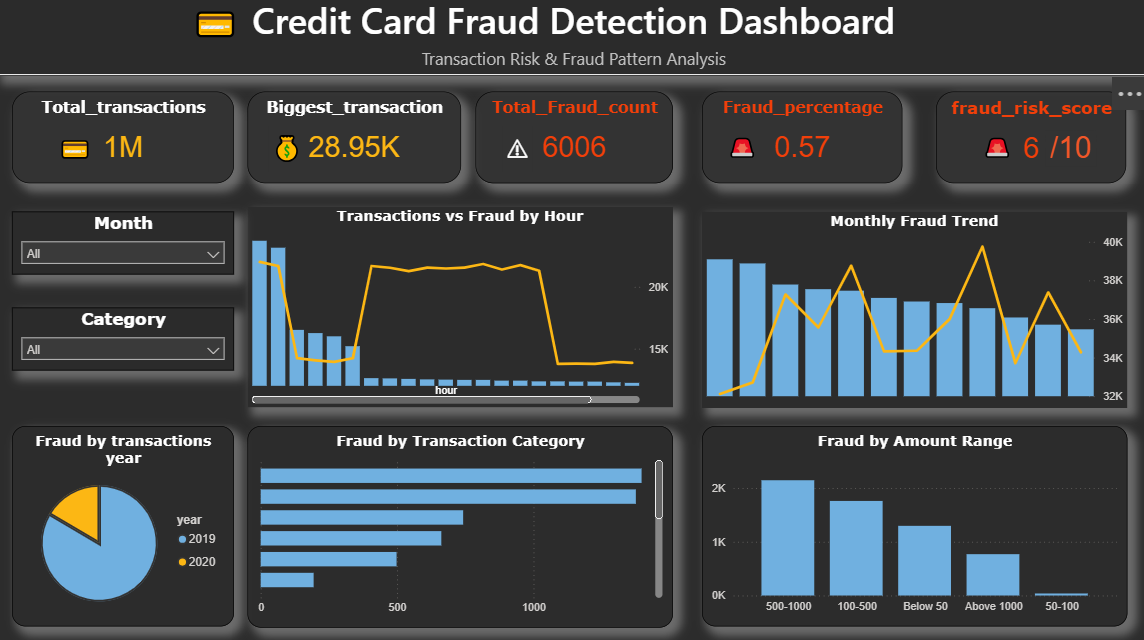

The dashboard page shown, as its layout file describes it:
{"tool":"powerbi","page":{"name":"Page 1","canvas":[1280,720],"ordinal":0},"visuals":[{"type":"card","title":"Total_Fraud_count","fields":{"Values":["Sum(#fr_percent.fraud_count)"]},"box":[531.3,108.2,219.5,101.8],"z":0},{"type":"card","title":"Fraud_percentage","fields":{"Values":["Sum(#fr_percent.fraud_percentage)"]},"box":[782.6,108.2,222.7,101.8],"z":1000},{"type":"card","title":"Total_transactions","fields":{"Values":["Sum(#fr_percent.total)"]},"box":[15.9,108.2,246.5,101.8],"z":2000},{"type":"lineStackedColumnComboChart","title":"Transactions vs Fraud by Hour","fields":{"Category":["#fr_by_time_of_day.hour"],"Y":["Sum(#fr_by_time_of_day.fraud_transactions)"],"Y2":["Sum(#fr_by_time_of_day.total_transactions)"]},"box":[278.4,237,472.4,222.7],"z":3000},{"type":"card","title":"Biggest_transaction","fields":{"Values":["Sum(#fr_big_trans.MAX(amt))"]},"box":[278.4,108.2,237,101.8],"z":4000},{"type":"pieChart","title":"Fraud by transactions year","fields":{"Category":["#fr_by_year.year"],"Y":["Sum(#fr_by_year.fraud_transactions)"]},"box":[15.9,480.4,246.5,222.7],"z":5000},{"type":"lineStackedColumnComboChart","title":"Monthly Fraud Trend","fields":{"Category":["#fr_by_month.month"],"Y":["Sum(#fr_by_month.fraud_transactions)"],"Y2":["Sum(#fr_by_month.total_transactions)"]},"box":[782.6,241.8,472.4,217.9],"z":6000},{"type":"card","title":"fraud_risk_score","fields":{"Values":["Sum(#fr_risk.fraud_risk_score)"]},"box":[1043.4,108.2,211.6,101.8],"z":7000},{"type":"columnChart","title":"Fraud by Amount Range","fields":{"Category":["#fr_by_trans_amt.amount_range"],"Y":["Sum(#fr_by_trans_amt.fraud_transactions)"]},"box":[782.6,480.4,472.4,222.7],"z":8000},{"type":"textbox","box":[806.4,146.3,47.7,50.9],"z":9000},{"type":"slicer","title":"Month","fields":{"Values":["#fr_by_month.month"]},"box":[15.9,241.8,246.5,70],"z":10000},{"type":"slicer","title":"Category","fields":{"Values":["#fr_by_cat.category"]},"box":[15.9,348.3,246.5,70],"z":11000},{"type":"textbox","title":"Credit Card Fraud Detection Dashboard","box":[0,0,1280.4,90.7],"z":12000},{"type":"barChart","title":"Fraud by Transaction Category","fields":{"Category":["#fr_by_cat.category"],"Y":["Sum(#fr_by_cat.fraud_count)"]},"box":[278.4,480.4,472.4,224.3],"z":13000},{"type":"textbox","box":[63.6,146.3,49.3,50.9],"z":14000},{"type":"textbox","box":[561.5,146.3,33.4,50.9],"z":15000},{"type":"textbox","box":[302.2,146.3,38.2,50.9],"z":16000},{"type":"textbox","box":[1089.6,146.3,42.9,50.9],"z":17000},{"type":"textbox","box":[206.7,0,71.7,68.3],"z":17001},{"type":"textbox","title":"/10","box":[1165,151.7,56.7,40],"z":17002}]}

Visuals, with their boxes in screenshot pixels (x1, y1, x2, y2), scaled from the page's 1280x720 canvas onto the 1144x640 screenshot:
"Total_Fraud_count" card: Rect(475, 96, 671, 187)
"Fraud_percentage" card: Rect(699, 96, 898, 187)
"Total_transactions" card: Rect(14, 96, 235, 187)
"Transactions vs Fraud by Hour" lineStackedColumnComboChart: Rect(249, 211, 671, 409)
"Biggest_transaction" card: Rect(249, 96, 461, 187)
"Fraud by transactions year" pieChart: Rect(14, 427, 235, 625)
"Monthly Fraud Trend" lineStackedColumnComboChart: Rect(699, 215, 1122, 409)
"fraud_risk_score" card: Rect(933, 96, 1122, 187)
"Fraud by Amount Range" columnChart: Rect(699, 427, 1122, 625)
textbox: Rect(721, 130, 763, 175)
"Month" slicer: Rect(14, 215, 235, 277)
"Category" slicer: Rect(14, 310, 235, 372)
"Credit Card Fraud Detection Dashboard" textbox: Rect(0, 0, 1143, 81)
"Fraud by Transaction Category" barChart: Rect(249, 427, 671, 626)
textbox: Rect(57, 130, 101, 175)
textbox: Rect(502, 130, 532, 175)
textbox: Rect(270, 130, 304, 175)
textbox: Rect(974, 130, 1012, 175)
textbox: Rect(185, 0, 249, 61)
"/10" textbox: Rect(1041, 135, 1092, 170)
